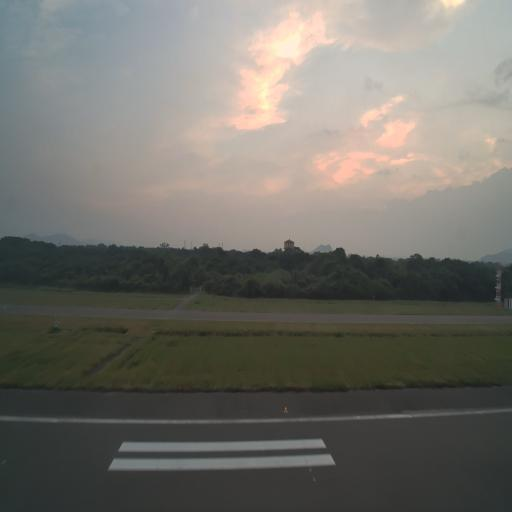on: (284, 405, 289, 413)
